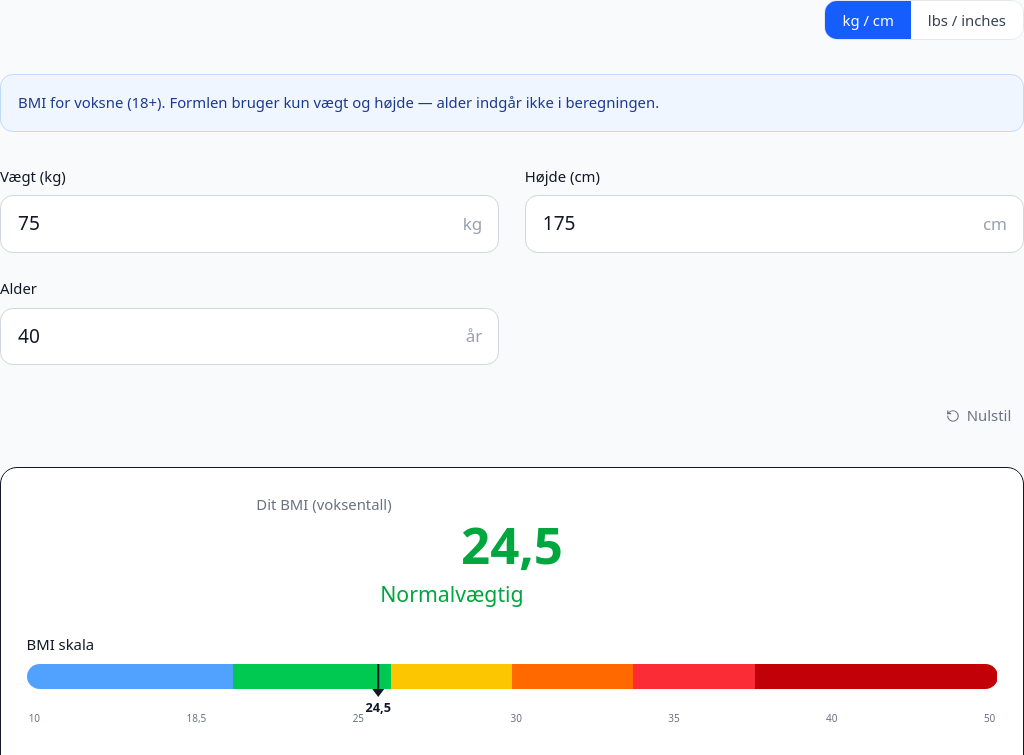
Scenario: BMIBeregner › beholder WHR-værdier inden for enhedens grænser ved skift
Click the button "lbs / inches". click: (967, 20)
box: [911, 1, 1023, 39]
(page scrolled)
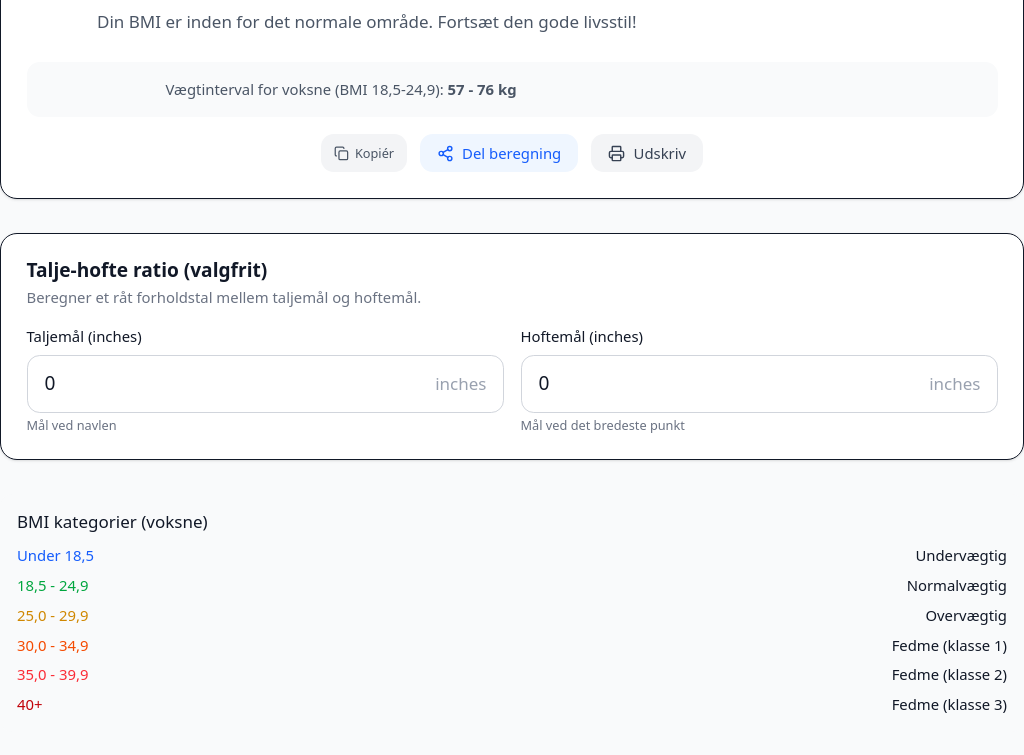
Replace the text in the number field labelled "Taljemål (inches)" with "79". click: (265, 384)
box: [26, 356, 504, 413]
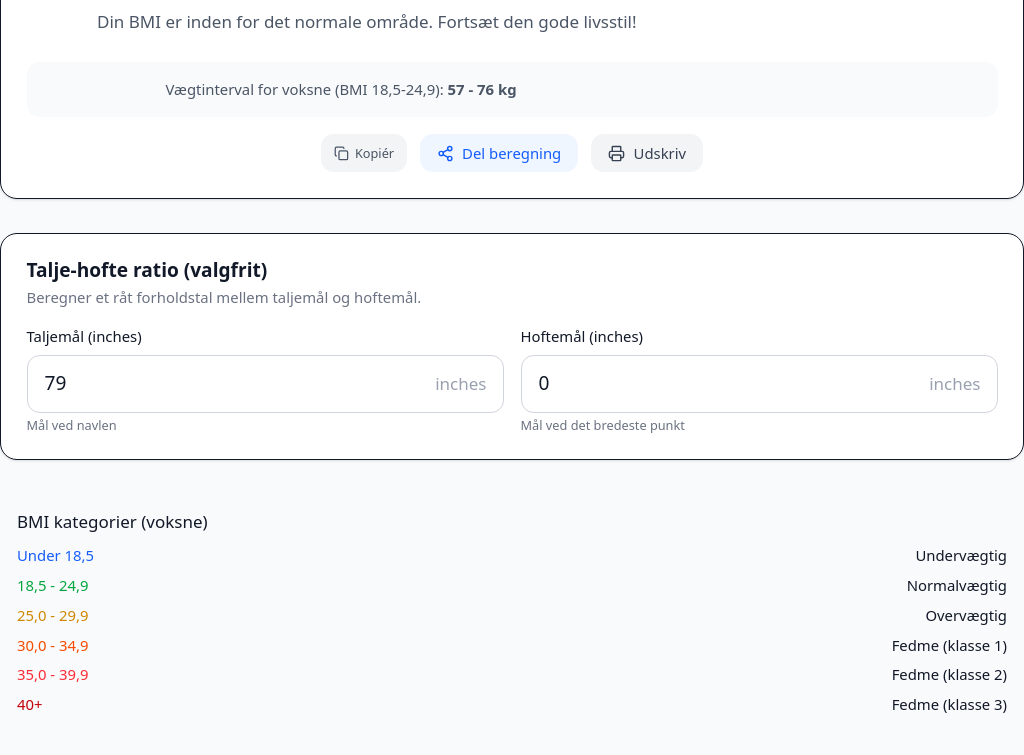
Replace the text in the number field labelled "Hoftemål (inches)" with "79". click: (759, 384)
box: [520, 356, 998, 413]
(page scrolled)
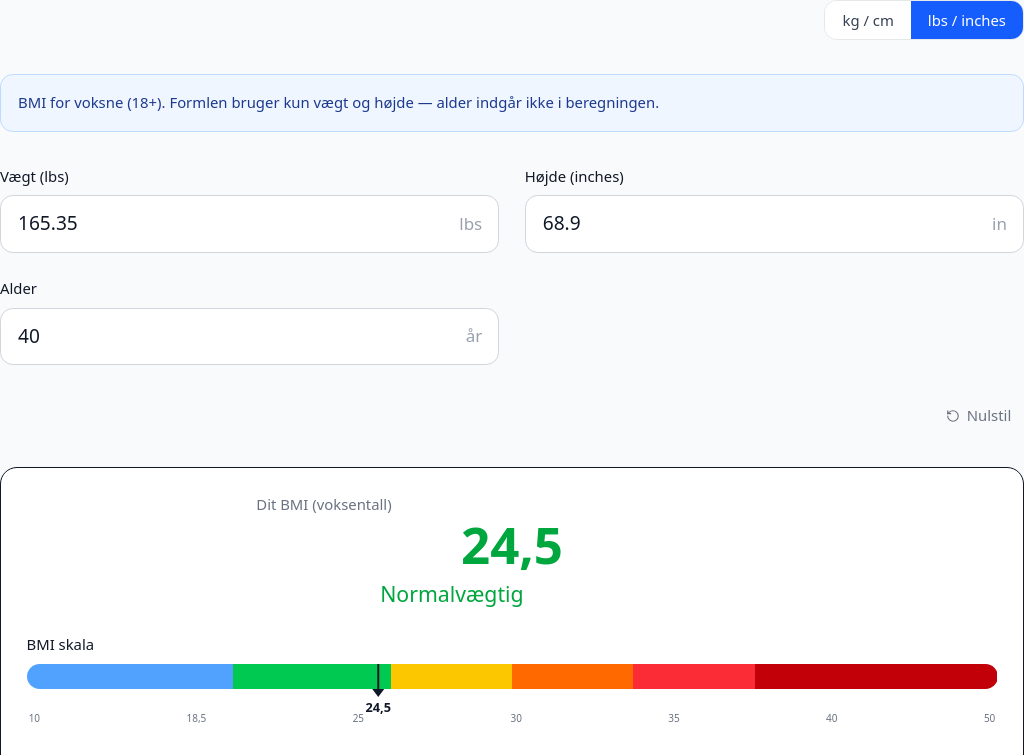
Click the button "kg / cm". click: (868, 20)
box: [826, 1, 911, 39]
(page scrolled)
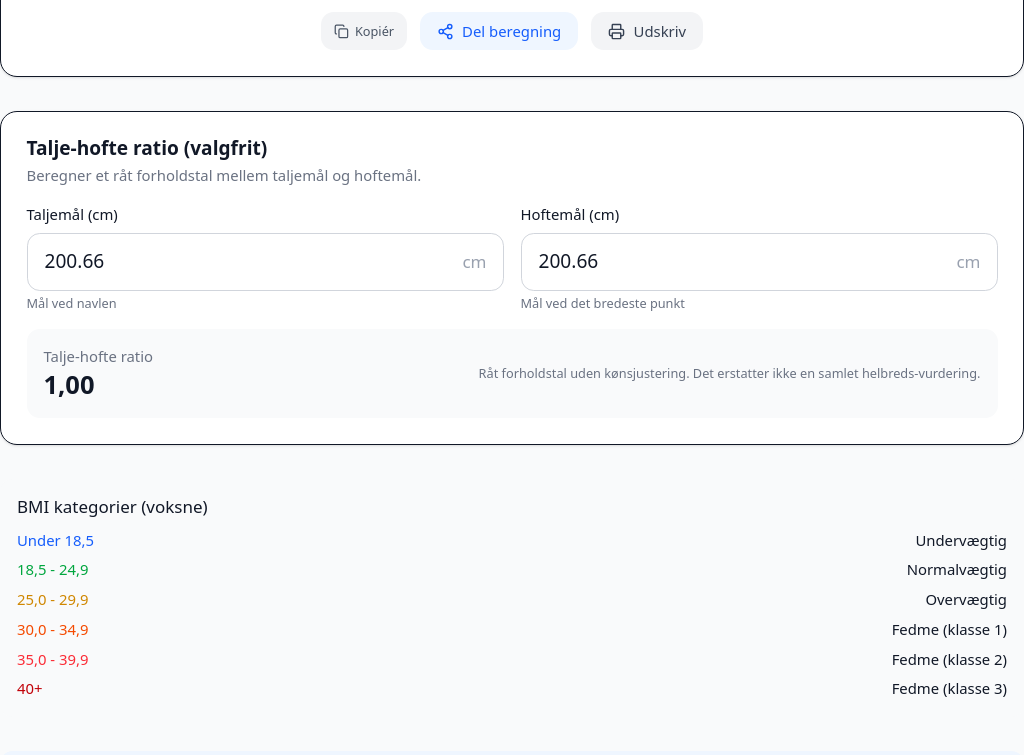
Now the text "1,00" is shown, box [44, 367, 94, 401]
Now the number field labelled "Taljemål (cm)" holds "200.66", box [26, 234, 504, 291]
Now the number field labelled "Hoftemål (cm)" holds "200.66", box [520, 234, 998, 291]
